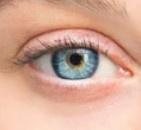eye: (52, 46, 99, 80)
